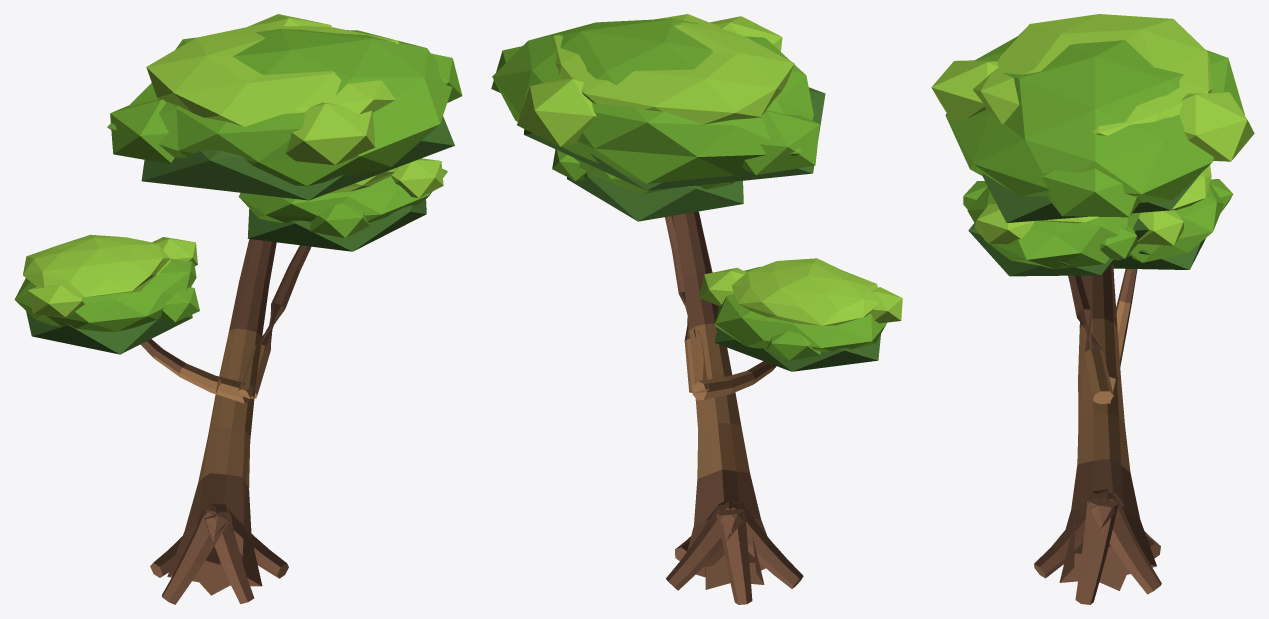
Rendered from tree-1.glb.
3 renders of one model, left to right at view 1: azimuth 30°, elevation 25°; view 2: azimuth 150°, elevation 25°; view 3: azimuth 270°, elevation 25°, orthographic. The views are drawn at different scales.
Visible parts, largest first — view 1: canopy-0, trunk, canopy-1, canopy-2; view 2: canopy-0, trunk, canopy-1, canopy-2; view 3: canopy-0, trunk, canopy-2, canopy-1.
Part boxes in pixels (bbox=[...]): canopy-0: bbox=[107, 14, 462, 200]; trunk: bbox=[140, 239, 311, 604]; canopy-1: bbox=[14, 234, 199, 354]; canopy-2: bbox=[238, 158, 447, 251]; canopy-0: bbox=[491, 14, 825, 190]; trunk: bbox=[665, 211, 803, 604]; canopy-1: bbox=[699, 258, 902, 371]; canopy-2: bbox=[552, 149, 743, 221]; canopy-0: bbox=[931, 14, 1254, 222]; trunk: bbox=[1034, 264, 1161, 604]; canopy-2: bbox=[963, 181, 1148, 276]; canopy-1: bbox=[1113, 165, 1232, 269].
Size of the model in its own units: 6.41 by 7.77 by 4.09.
